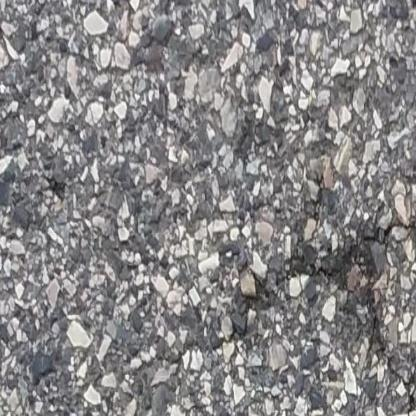Cracks: (236, 222, 416, 416), (400, 198, 416, 221)
